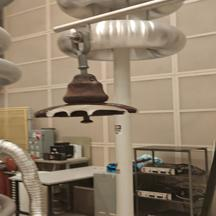insulator: (28, 68, 145, 129)
